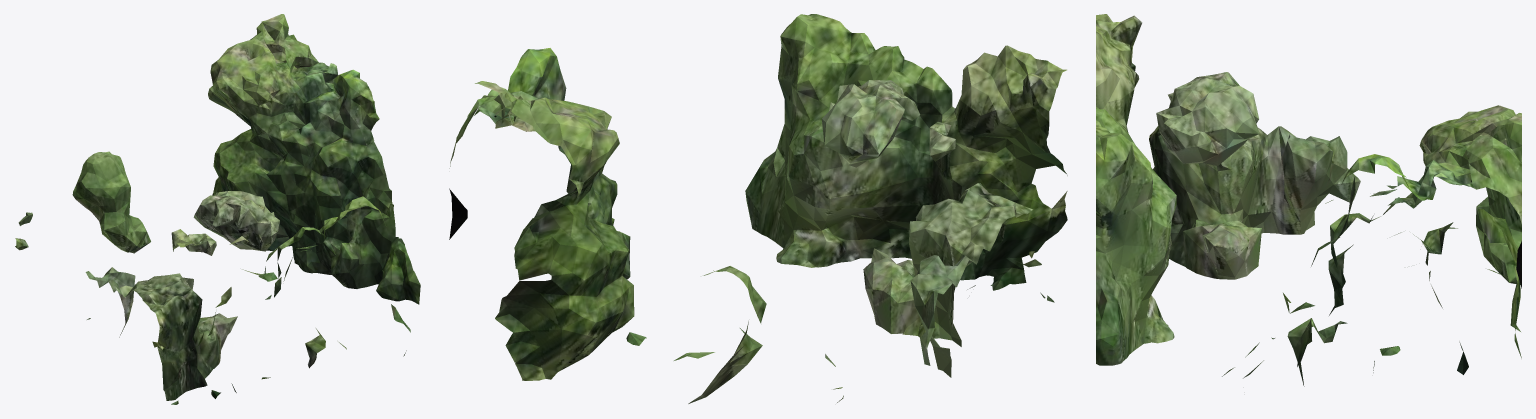
The picture shows the model from 3 angles, left to right: view 1: azimuth 30°, elevation 25°; view 2: azimuth 150°, elevation 25°; view 3: azimuth 270°, elevation 25°; orthographic projection. The views are drawn at different scales.
Size of the model in its own units: 26.11 by 18.23 by 26.11.
4 materials, 4 textured.
